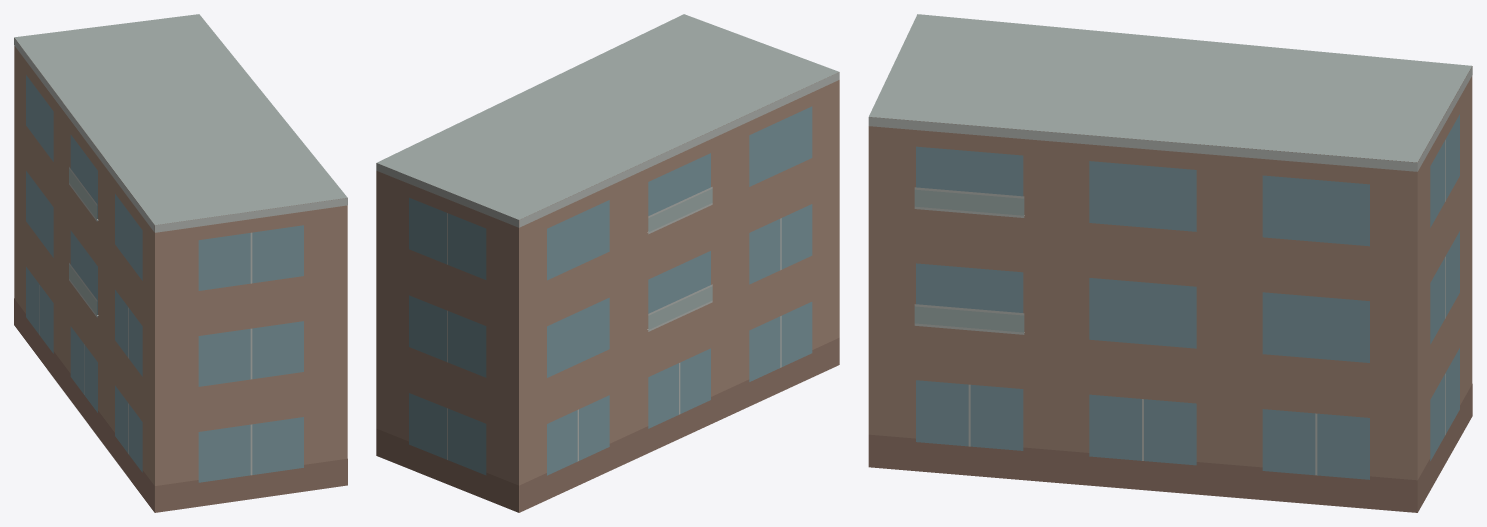
Rendered from survey-upis-32702658.glb.
The picture shows the model from 3 angles, left to right: view 1: azimuth 30°, elevation 25°; view 2: azimuth 150°, elevation 25°; view 3: azimuth 270°, elevation 25°; orthographic projection. The views are drawn at different scales.
Visible parts, largest first — view 1: survey-upis-32702658.tmp; view 2: survey-upis-32702658.tmp; view 3: survey-upis-32702658.tmp.
Boxes of the visible parts, bbox=[...] form: survey-upis-32702658.tmp: bbox=[14, 14, 347, 512]; survey-upis-32702658.tmp: bbox=[376, 14, 839, 512]; survey-upis-32702658.tmp: bbox=[868, 14, 1472, 512].
Bounding box in the file's own units: 8.33 × 9.15 × 14.3.
